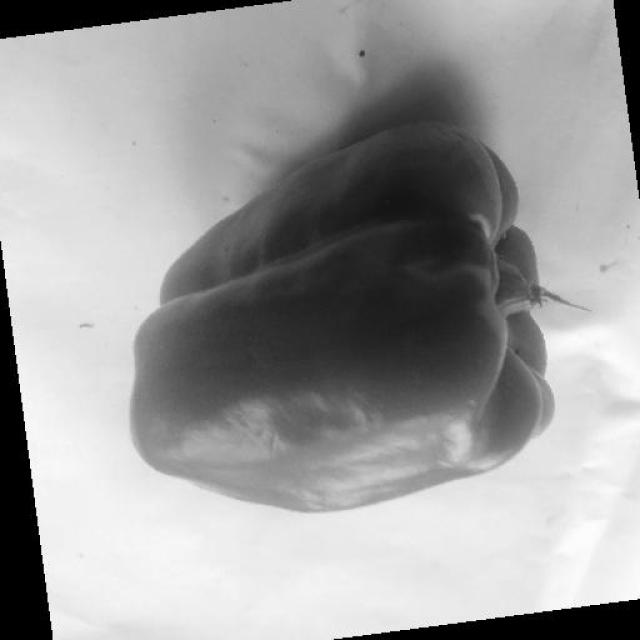Fresh_Capsicum: (145, 173, 540, 477)
